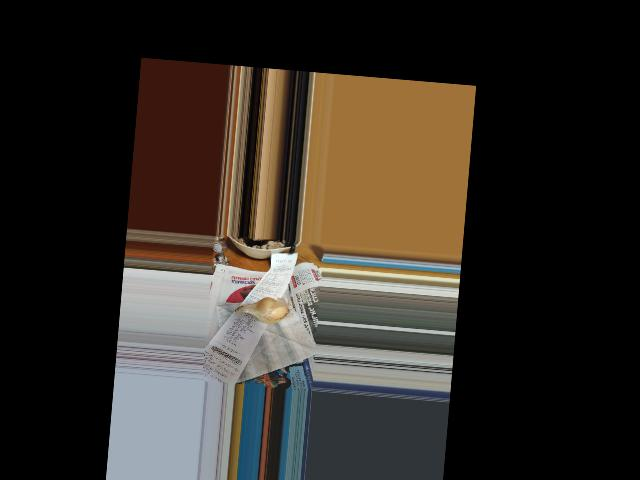onion: (241, 295, 289, 325)
